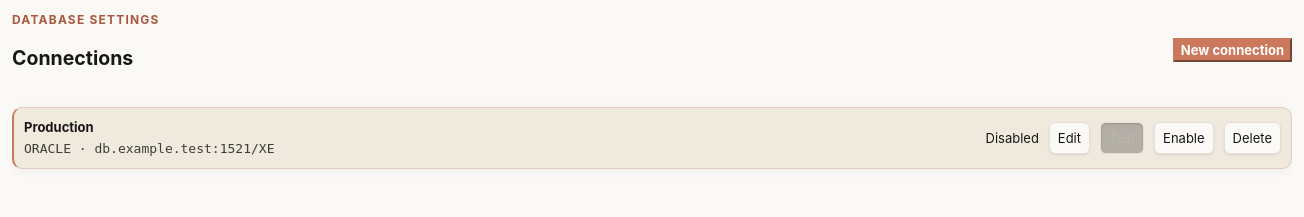
Scenario: enables a disabled connection and refreshes the card
Click the button "Enable": (1184, 138) 1154,122 -> 1214,154
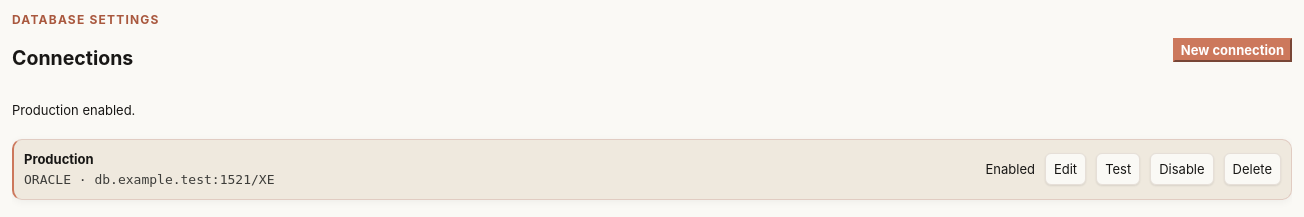
Expected: the text "Production enabled." is shown, 12,102 -> 135,118
Expected: the text "Enabled" is shown, 986,160 -> 1035,178
